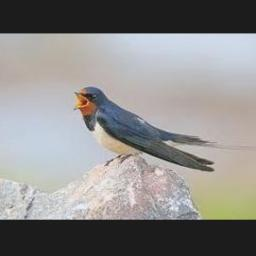Swallow: (73, 87, 217, 172)
